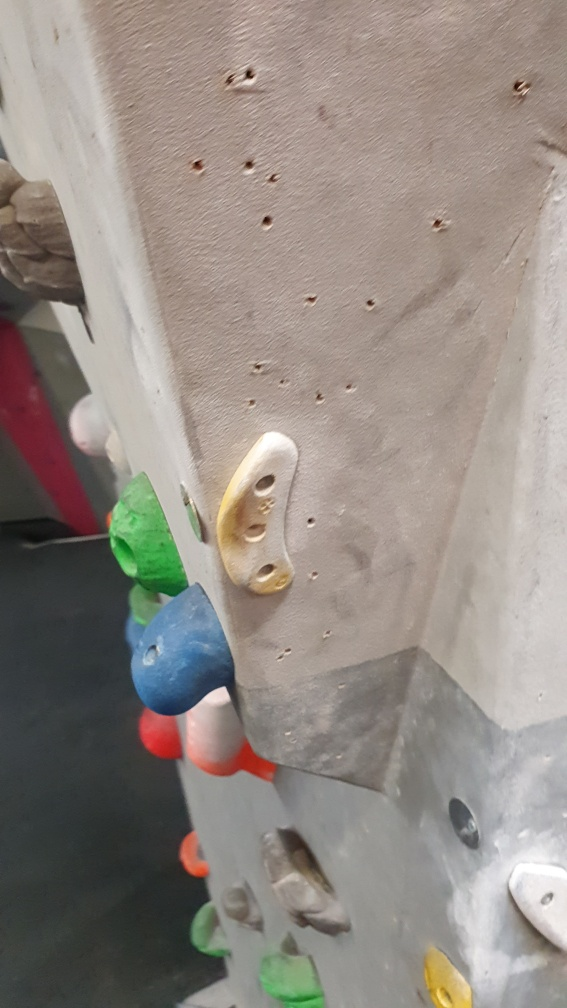Hand Start: (445, 798, 486, 859), (176, 486, 209, 540)
Jug: (259, 818, 361, 943)
